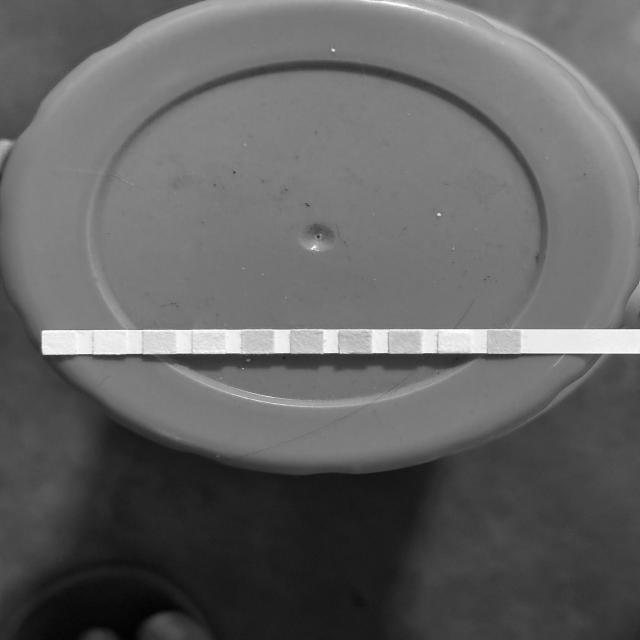Bilirubin: (439, 332, 470, 352)
Blood: (291, 331, 322, 353)
Glucose: (489, 331, 520, 353)
Ketone: (390, 331, 420, 353)
Leukocytes: (43, 332, 75, 354)
Nitrite: (96, 332, 125, 354)
Protein: (194, 331, 225, 353)
SpGravity: (340, 331, 371, 353)
Urobilinogen: (144, 332, 177, 353)
background: (0, 0, 640, 640)
pH: (244, 332, 272, 352)
strip: (42, 329, 639, 355)
